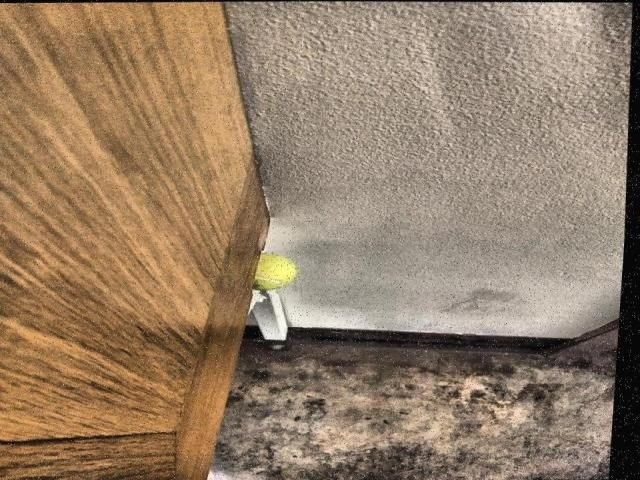tennis-ball: (252, 253, 298, 291)
